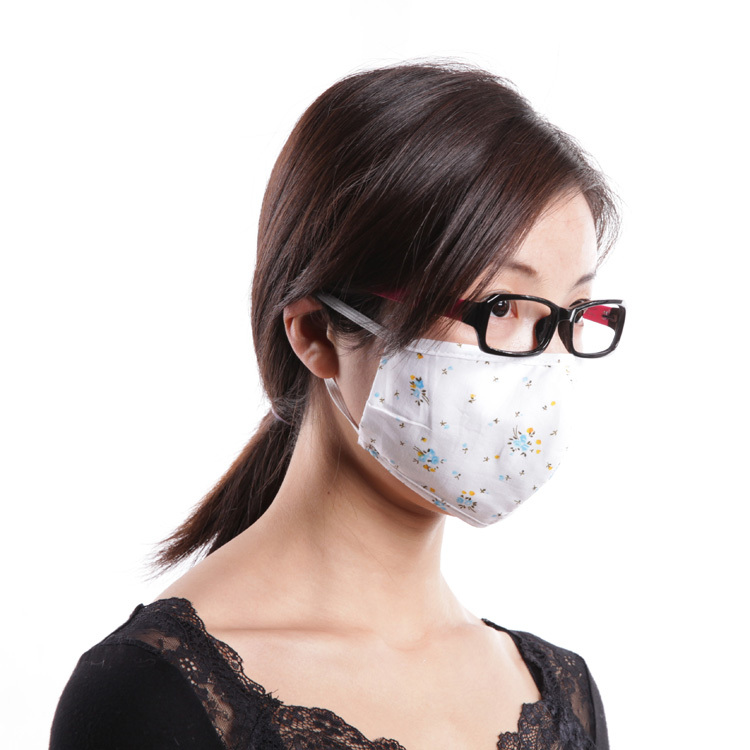face_mask: (364, 189, 607, 527)
